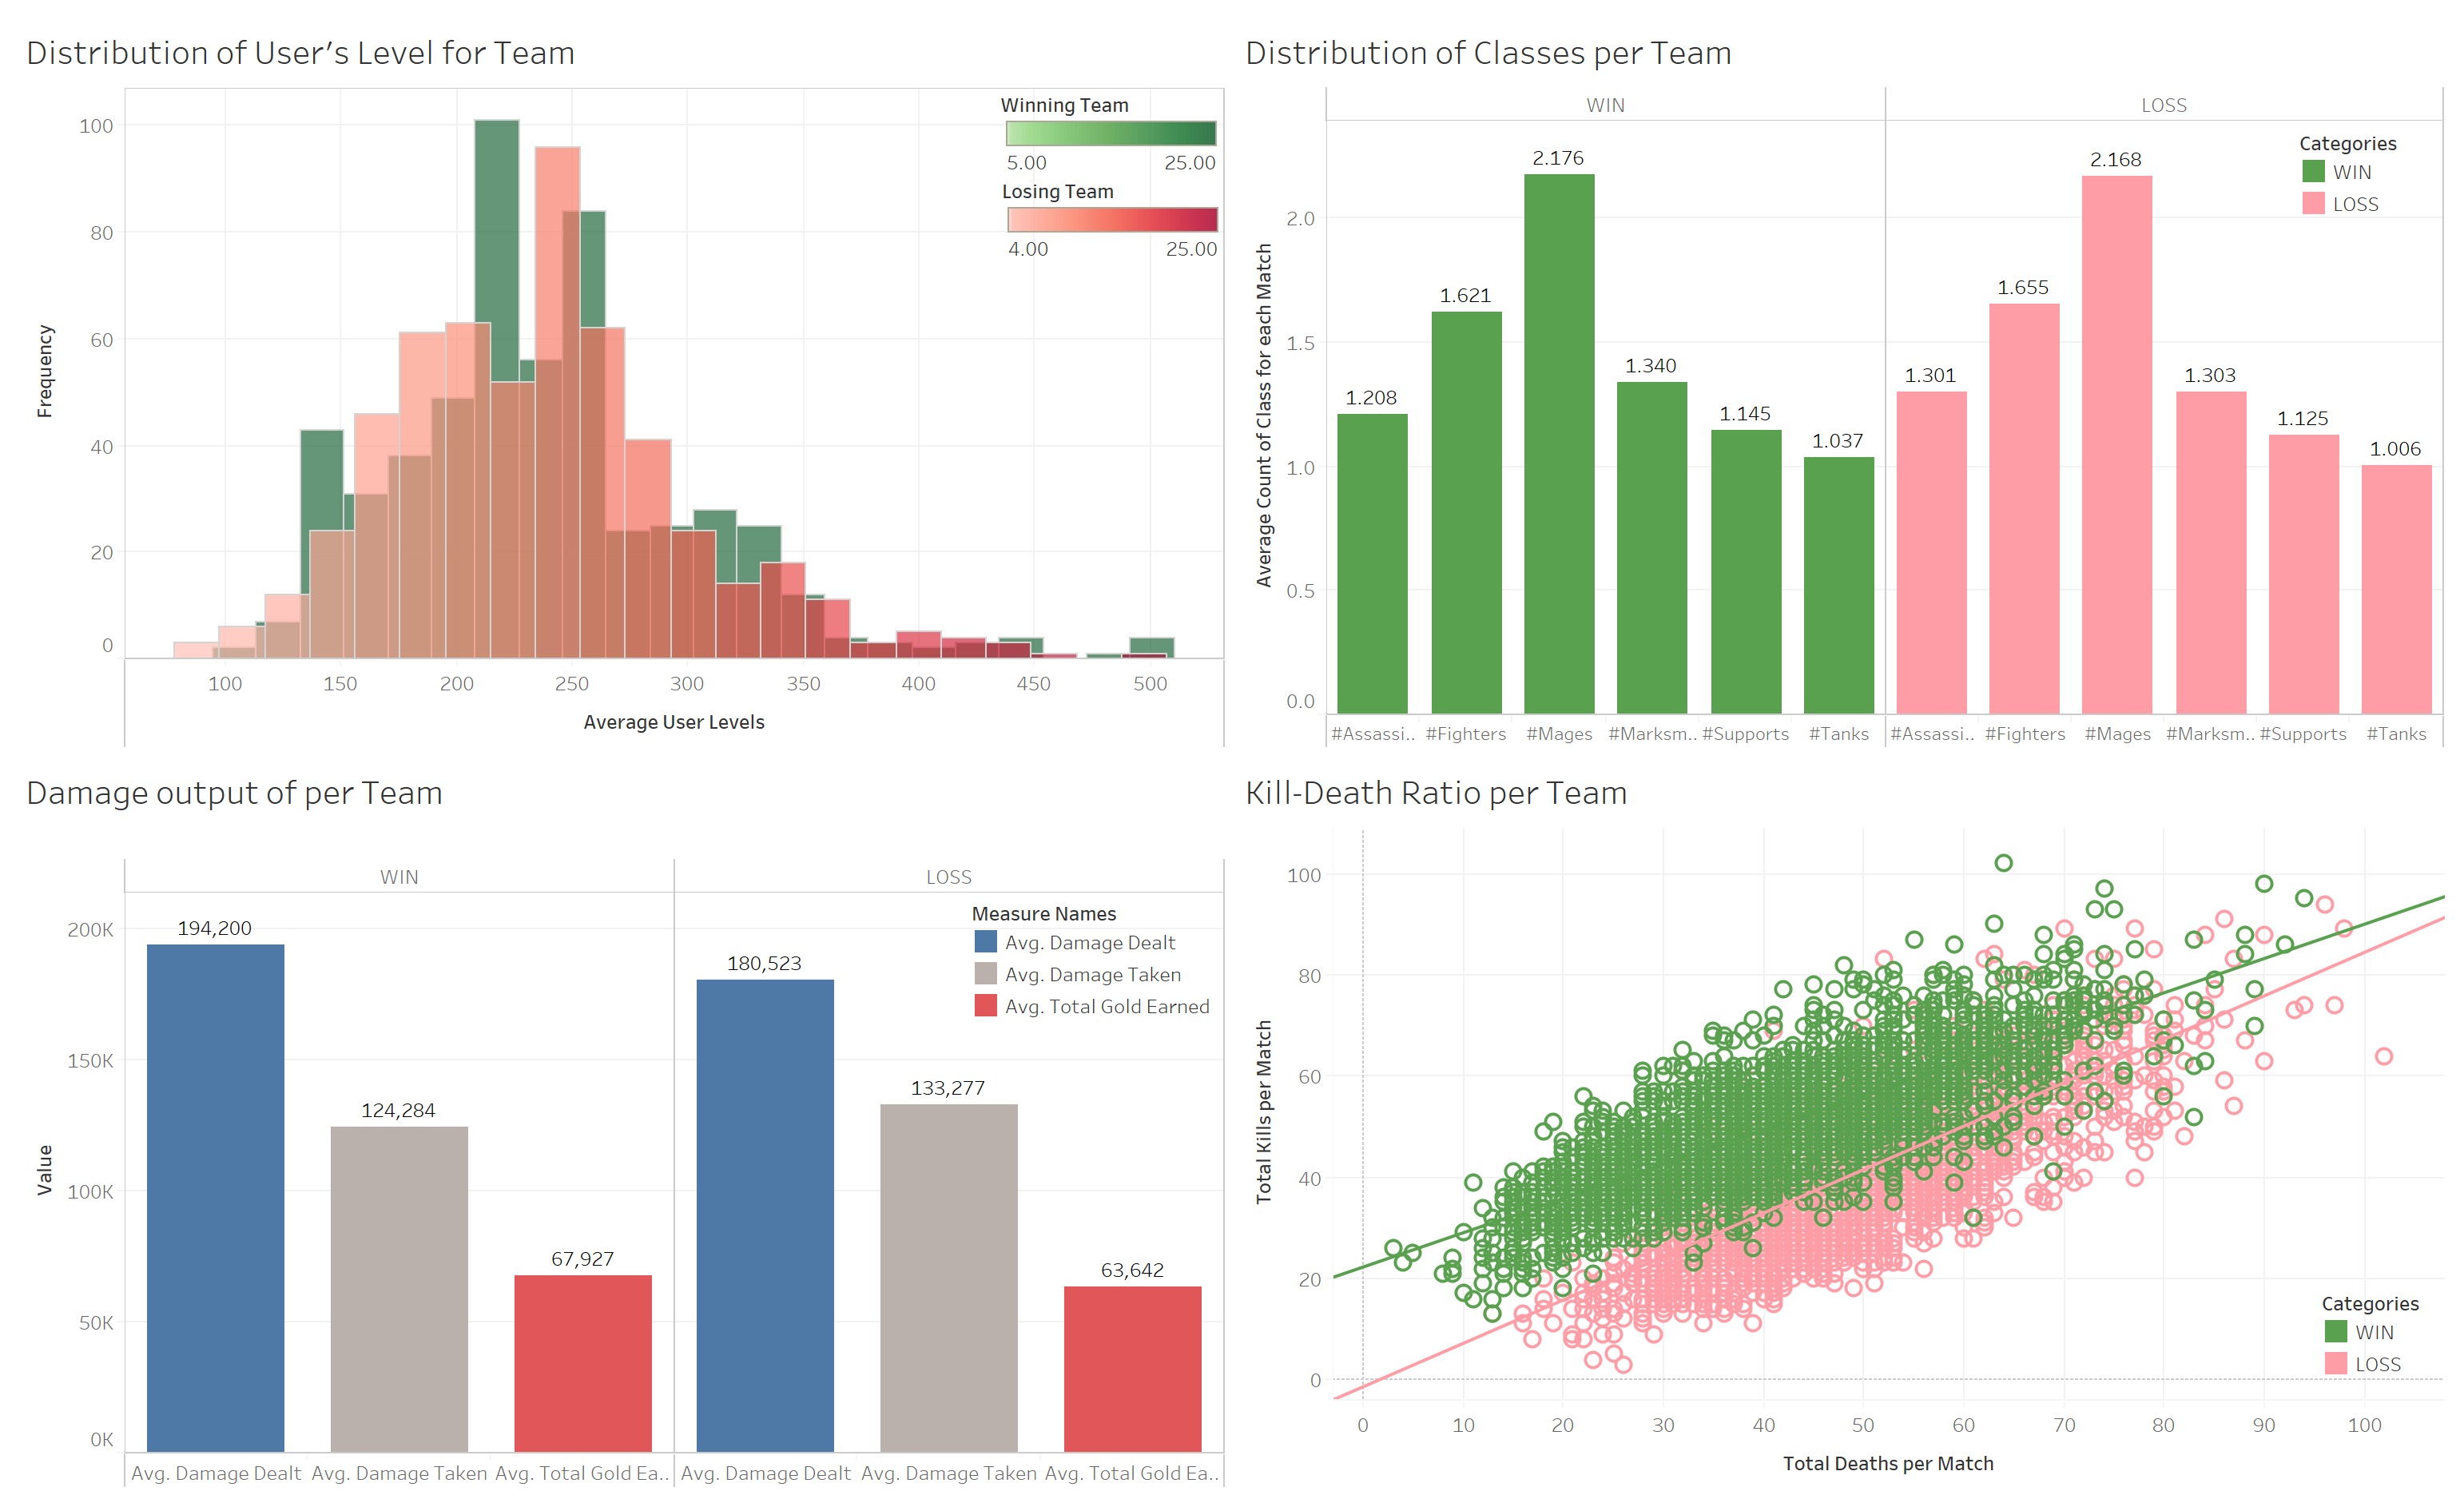

Layout of this report page (visuals, bound fields, positions):
{"tool":"tableau","page":{"name":"Dashboard 1","canvas":[1000,1000],"units":"permille","ordinal":0},"visuals":[{"type":"worksheet","box":[0,0,1000,1000]},{"type":"worksheet","param":"horz","box":[5.2,8.5,989.6,983]},{"type":"worksheet","param":"horz","box":[5.2,8.5,989.6,983]},{"type":"worksheet","param":"horz","box":[5.2,8.5,989.6,983]},{"type":"worksheet","box":[5.2,8.5,989.6,983]},{"type":"worksheet","title":"levels","mark":"Automatic","rows":["win.csv_3640DC702D6D4B6998320DAF5E77EFE0"],"cols":["Summoner Avg Level (bin)","Summoner Avg Level (loss.csv) (bin)"],"box":[5.2,8.5,494.8,491.5]},{"type":"worksheet","title":"classes 2.0","mark":"Automatic","rows":["Pivot Field Values"],"cols":["win/loss cat","Pivot Field Names"],"box":[500,8.5,494.8,491.5]},{"type":"worksheet","title":"levels","mark":"Automatic","rows":["win.csv_3640DC702D6D4B6998320DAF5E77EFE0"],"cols":["Summoner Avg Level (bin)","Summoner Avg Level (loss.csv) (bin)"],"param":"[federated.0mgj1y01d6fn1311ts92m0scgpry].[none:Summoner Avg Level (bin):qk]","box":[406,56.2,90.8,80.6]},{"type":"worksheet","title":"levels","mark":"Automatic","rows":["win.csv_3640DC702D6D4B6998320DAF5E77EFE0"],"cols":["Summoner Avg Level (bin)","Summoner Avg Level (loss.csv) (bin)"],"param":"[federated.0mgj1y01d6fn1311ts92m0scgpry].[none:Summoner Avg Level (loss.csv) (bi","box":[406.6,113.5,90.8,80.6]},{"type":"worksheet","title":"damage","mark":"Automatic","cols":["win/loss cat"],"box":[5.2,500,494.8,491.5]},{"type":"worksheet","title":"kda","mark":"Automatic","rows":["total kills"],"cols":["total deaths"],"box":[500,500,494.8,491.5]},{"type":"worksheet","title":"damage","mark":"Automatic","cols":["win/loss cat"],"param":"[federated.0ul6pag1uyszd410cntpf09k2rcf].[:Measure Names]","box":[393.6,594.9,100.5,82.7]}]}

Visuals, with their boxes on the dashboard's canvas, which has no fixed pixel size, in thousandths of its width and height (x1, y1, x2, y2). These are canvas units, not pixel positions in the 2464x1507 screenshot, which may show the page scaled, cropped or inside an application window:
worksheet: 0/0/1000/1000
worksheet: 5/8/995/992
worksheet: 5/8/995/992
worksheet: 5/8/995/992
worksheet: 5/8/995/992
"levels" worksheet: 5/8/500/500
"classes 2.0" worksheet: 500/8/995/500
"levels" worksheet: 406/56/497/137
"levels" worksheet: 407/114/497/194
"damage" worksheet: 5/500/500/992
"kda" worksheet: 500/500/995/992
"damage" worksheet: 394/595/494/678
